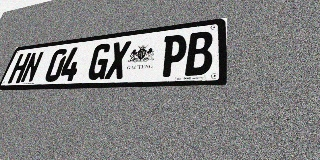0: (43, 48, 69, 82)
4: (58, 46, 84, 81)
B: (185, 31, 213, 76)
G: (86, 43, 113, 80)
H: (7, 53, 32, 84)
N: (20, 51, 44, 83)
P: (159, 34, 188, 77)
X: (104, 40, 132, 79)
